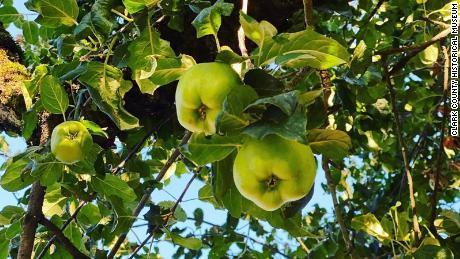apple: (234, 128, 317, 207), (175, 57, 254, 137), (50, 122, 93, 159)
